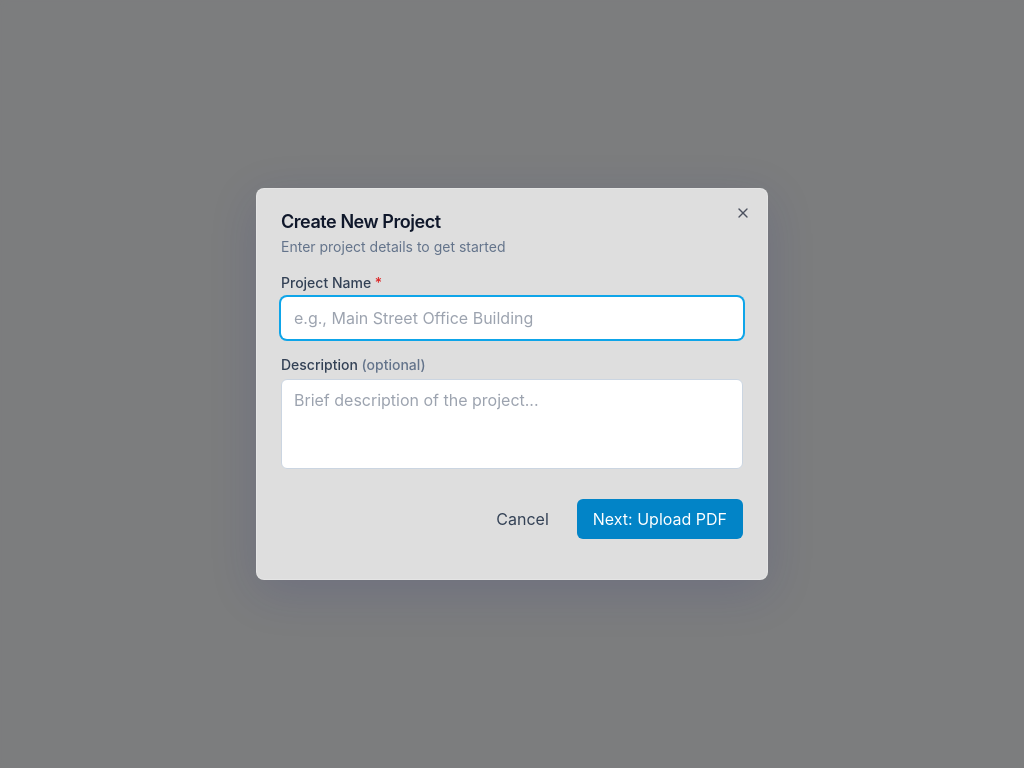
Test: CreateProjectDialog › Step 1: Project Details › should show validation error for empty project name
The width and height of the screenshot is (1024, 768).
Click the button "Next: Upload PDF". click: click(660, 519)
box: [577,499,743,539]
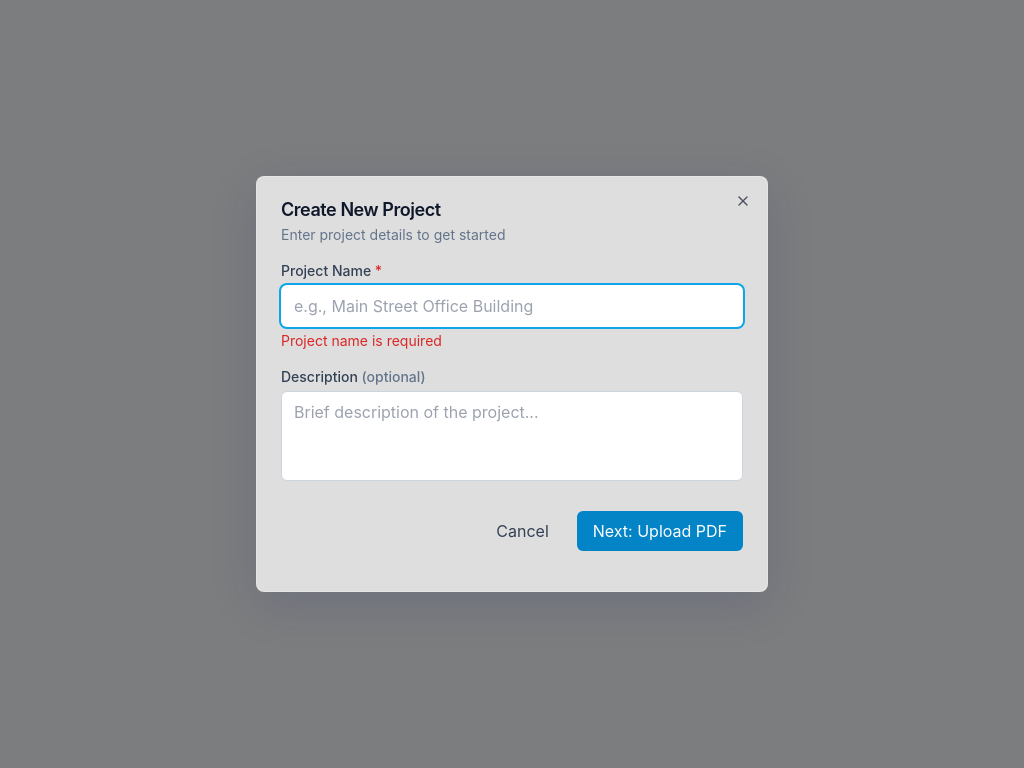
Expected: the text "Project name is required" is shown, [281,332,442,349]
